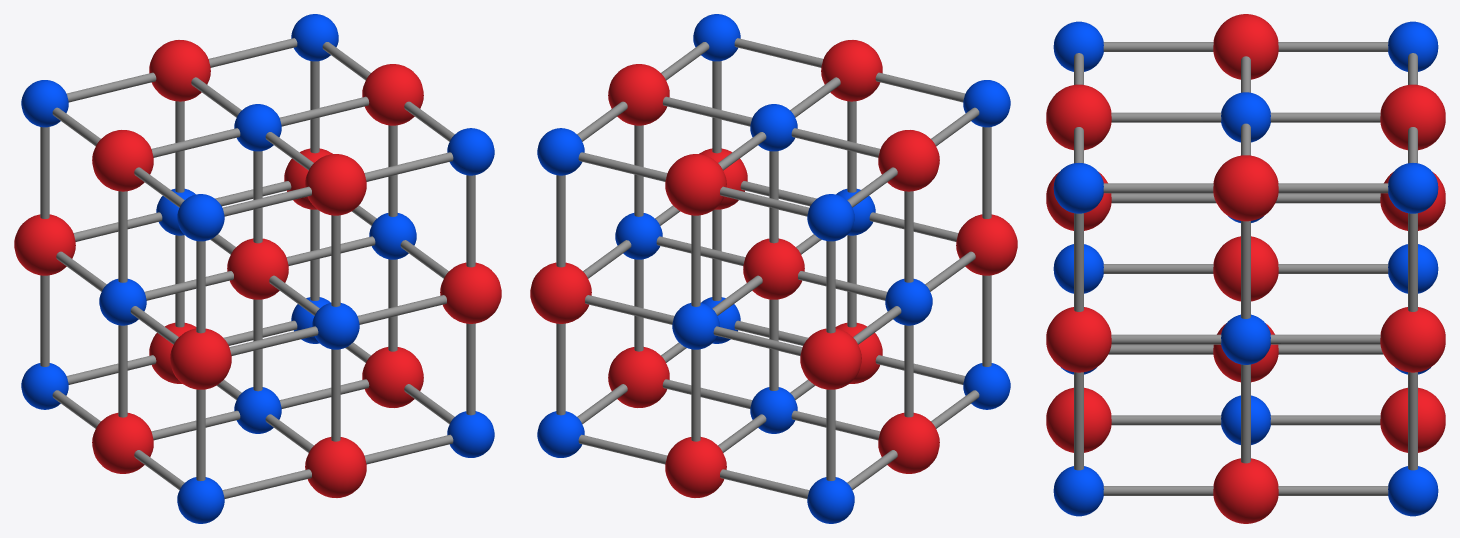
File: BaO.FBX
3 views of the same model, side by side, from view 1: azimuth 30°, elevation 25°; view 2: azimuth 150°, elevation 25°; view 3: azimuth 270°, elevation 25° (orthographic). The views are drawn at different scales.
Visible parts, largest first — view 1: Сферы_Node (×27), Цилиндр_Node (×43); view 2: Сферы_Node (×27), Цилиндр_Node (×43); view 3: Сферы_Node (×24), Цилиндр_Node (×24).
Boxes of the visible parts, x1=… form: Сферы_Node (×27): x1=14, y1=14, x2=501, y2=523; Цилиндр_Node (×43): x1=40, y1=38, x2=475, y2=498; Сферы_Node (×27): x1=530, y1=14, x2=1017, y2=523; Цилиндр_Node (×43): x1=556, y1=38, x2=991, y2=498; Сферы_Node (×24): x1=1046, y1=14, x2=1445, y2=523; Цилиндр_Node (×24): x1=1074, y1=42, x2=1417, y2=495.
Bounding box in the file's own units: 4.72 × 4.72 × 4.71.
Materials: 56 (2 with a texture image).
